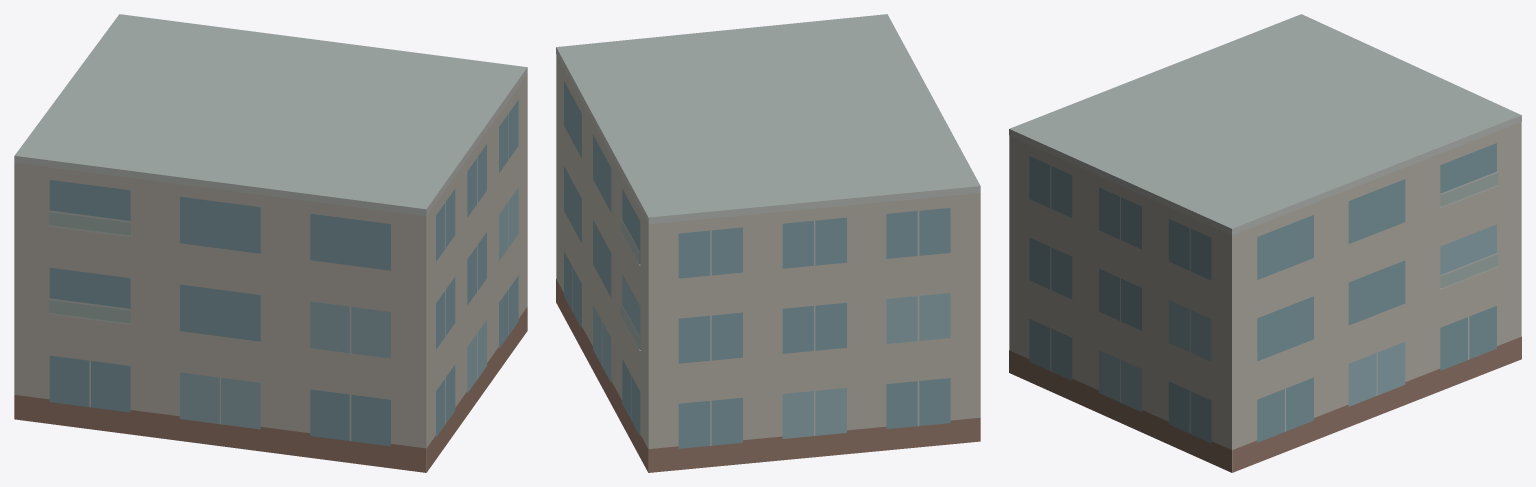
The model's file is survey-upis-32688502.glb.
3 renders of one model, left to right at view 1: azimuth 30°, elevation 25°; view 2: azimuth 150°, elevation 25°; view 3: azimuth 270°, elevation 25°, orthographic. The views are drawn at different scales.
Visible parts, largest first — view 1: survey-upis-32688502.tmp; view 2: survey-upis-32688502.tmp; view 3: survey-upis-32688502.tmp.
Boxes of the visible parts, x1=… form: survey-upis-32688502.tmp: x1=14, y1=14, x2=527, y2=472; survey-upis-32688502.tmp: x1=556, y1=14, x2=980, y2=472; survey-upis-32688502.tmp: x1=1009, y1=14, x2=1521, y2=472.
Bounding box in the file's own units: 17.29 × 9.15 × 17.43.
